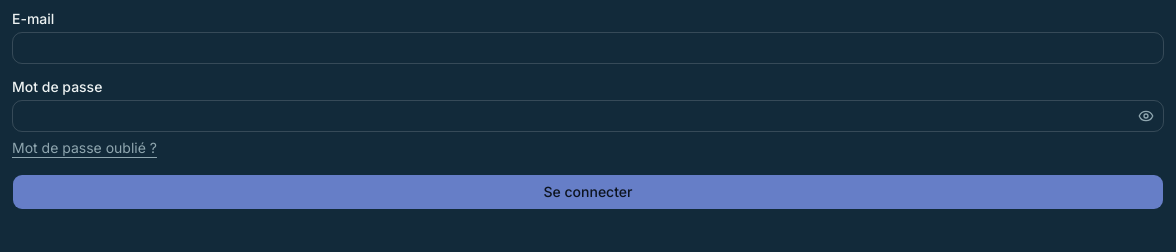
Test: LoginForm › reaffiche l'e-mail saisi apres une erreur, mais jamais le mot de passe
Step 1. Type "not-an-email" into the field labelled "E-mail" → point(588, 48), box x1=12 y1=32 x2=1164 y2=64
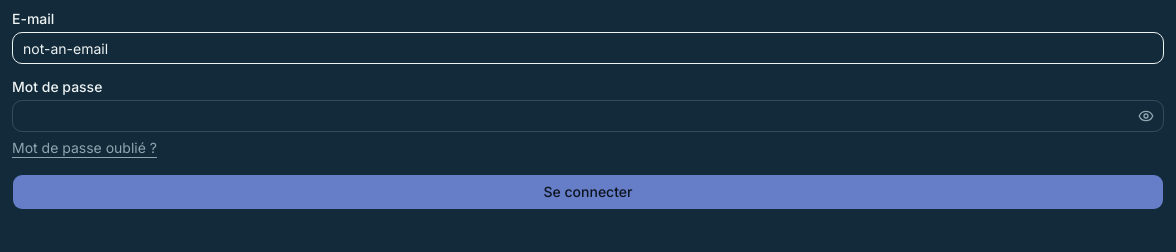
Step 2. Type "whatever" into the password field labelled "Mot de passe" → point(588, 116), box x1=12 y1=100 x2=1164 y2=132
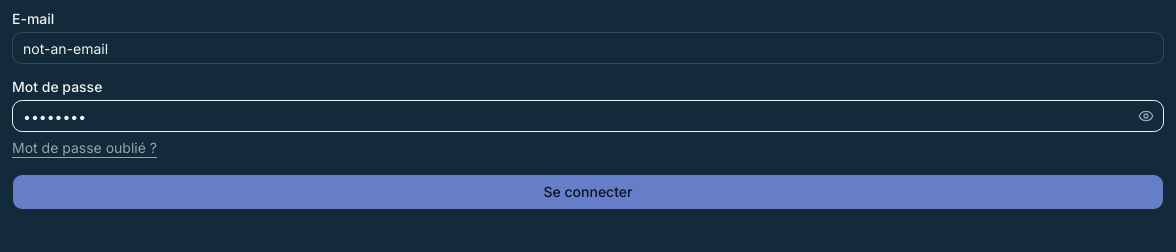
Step 3. Click the button "Se connecter" → point(588, 192), box x1=12 y1=174 x2=1164 y2=210
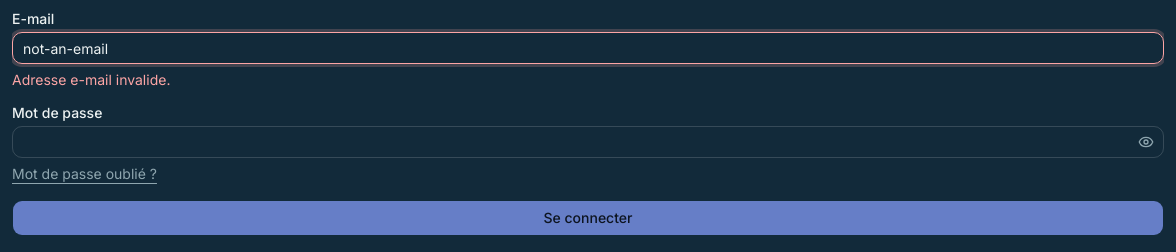
Expected: the text "Adresse e-mail invalide." is shown, x1=12 y1=71 x2=170 y2=88
Expected: the password field labelled "Mot de passe" is empty, x1=12 y1=126 x2=1164 y2=158
